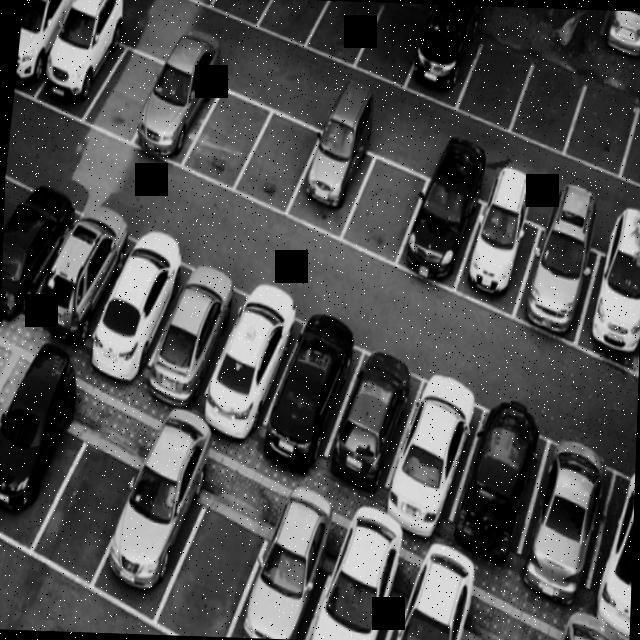car: (86, 449, 220, 628), (209, 264, 310, 457), (329, 338, 427, 520), (391, 366, 484, 550), (100, 216, 191, 404), (454, 385, 540, 576), (270, 307, 362, 485), (150, 252, 250, 414), (522, 434, 614, 610), (44, 188, 134, 350), (0, 165, 76, 347), (512, 199, 608, 343), (0, 379, 73, 561), (229, 521, 338, 640), (290, 107, 376, 236), (140, 38, 218, 176), (400, 162, 484, 287), (39, 0, 127, 117), (576, 215, 640, 375), (462, 188, 538, 312), (300, 549, 398, 640), (593, 460, 635, 632), (408, 10, 477, 110), (14, 0, 74, 96), (368, 590, 475, 640)
free: (43, 418, 136, 603), (160, 496, 268, 638), (183, 70, 270, 194), (339, 139, 423, 264), (237, 94, 321, 218), (90, 35, 162, 146), (456, 32, 536, 126), (564, 69, 636, 171), (509, 57, 581, 147), (361, 2, 432, 82), (307, 0, 376, 63), (261, 0, 327, 51), (211, 0, 281, 28), (627, 83, 640, 181), (161, 0, 233, 9)
